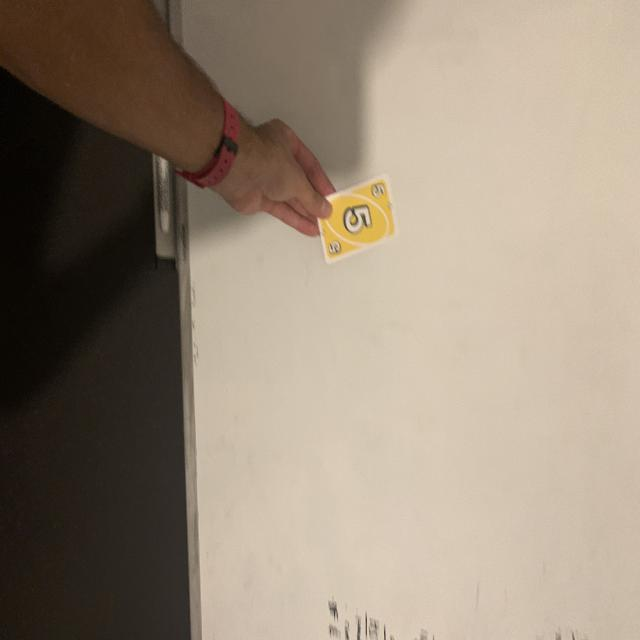lyellow-5: (368, 176, 386, 200)
